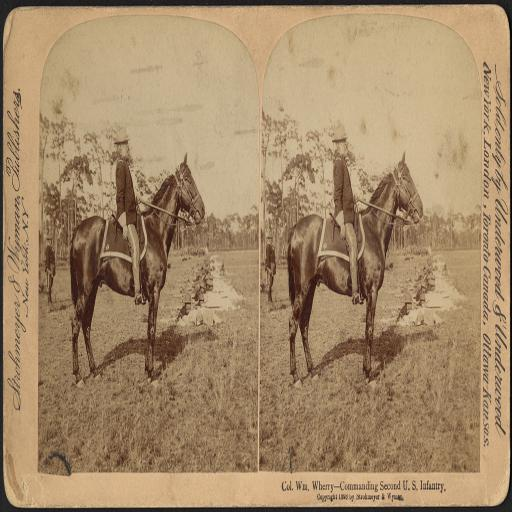Horse: (68, 148, 206, 389), (285, 152, 425, 386)
